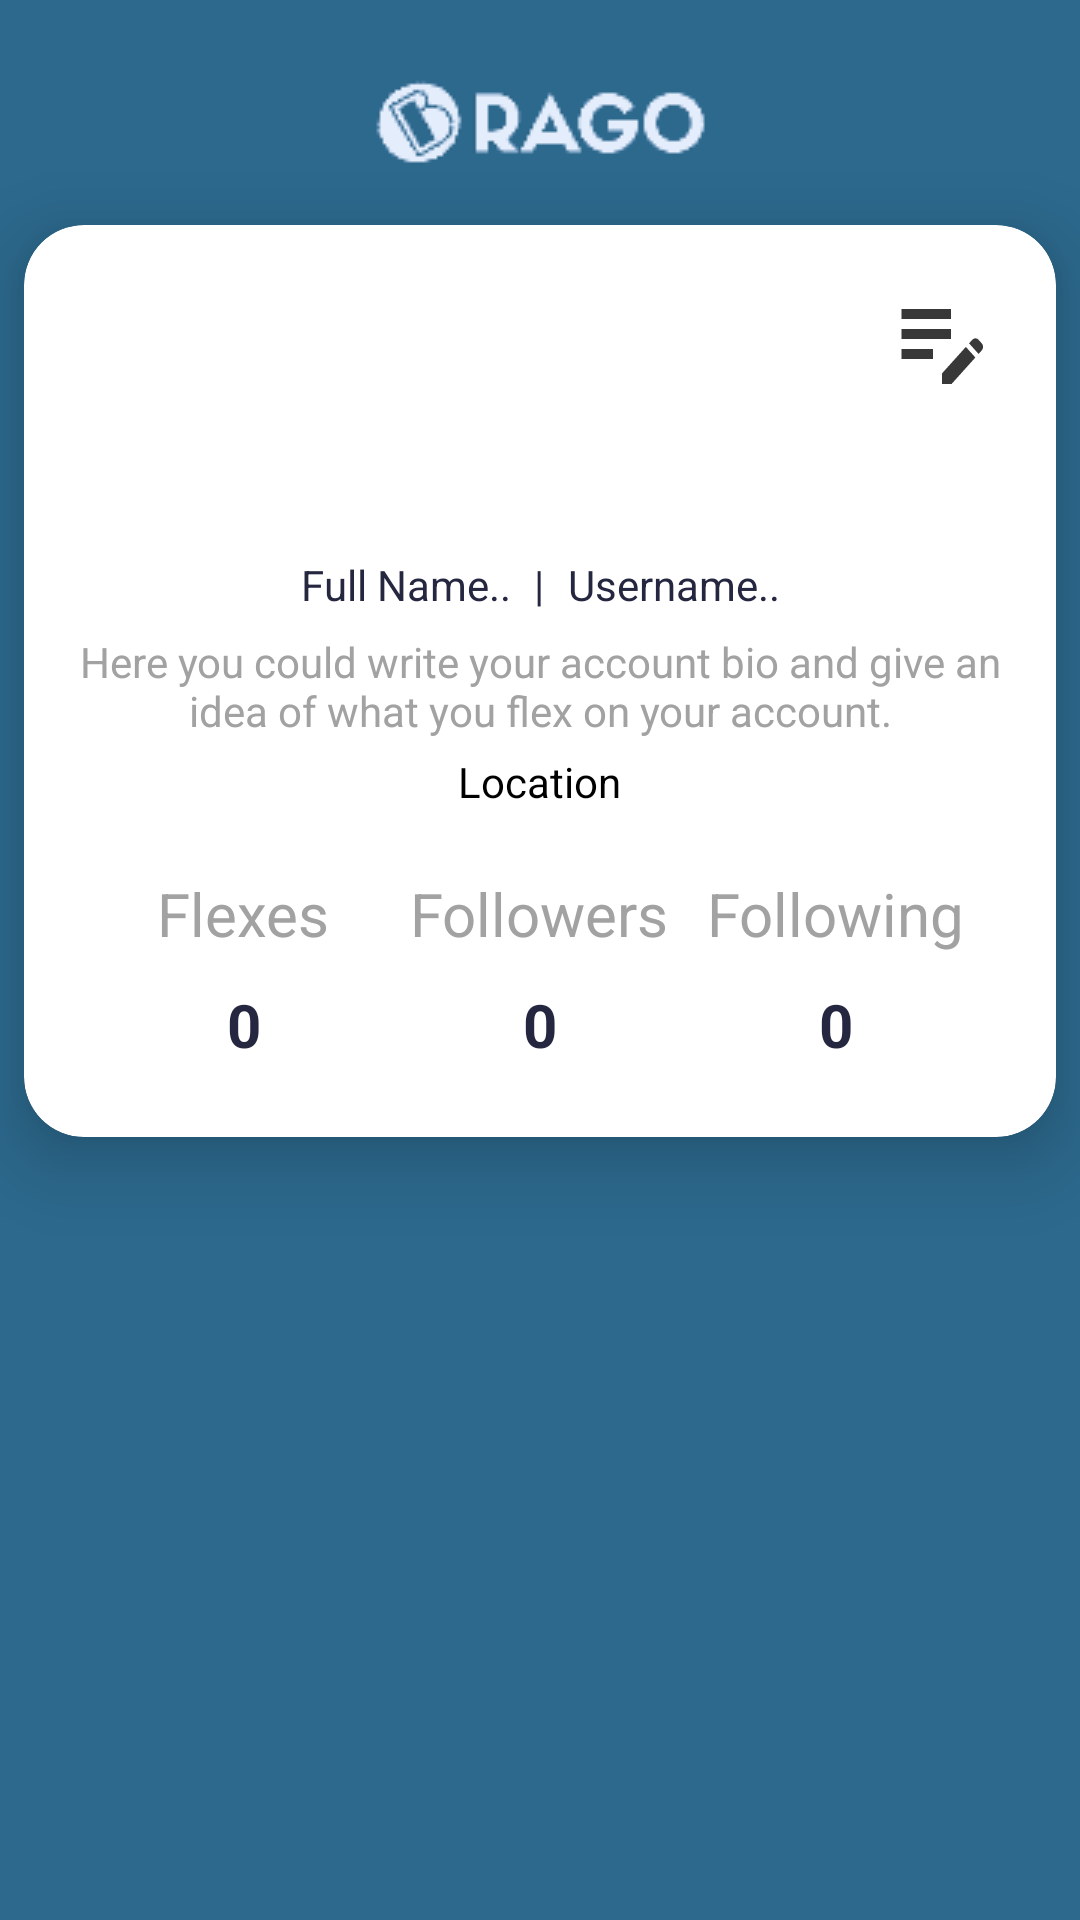

Point at icon controls on the screen. Image size 1080*1920, points as (x=x, y=y).
edit: (x=942, y=346)
